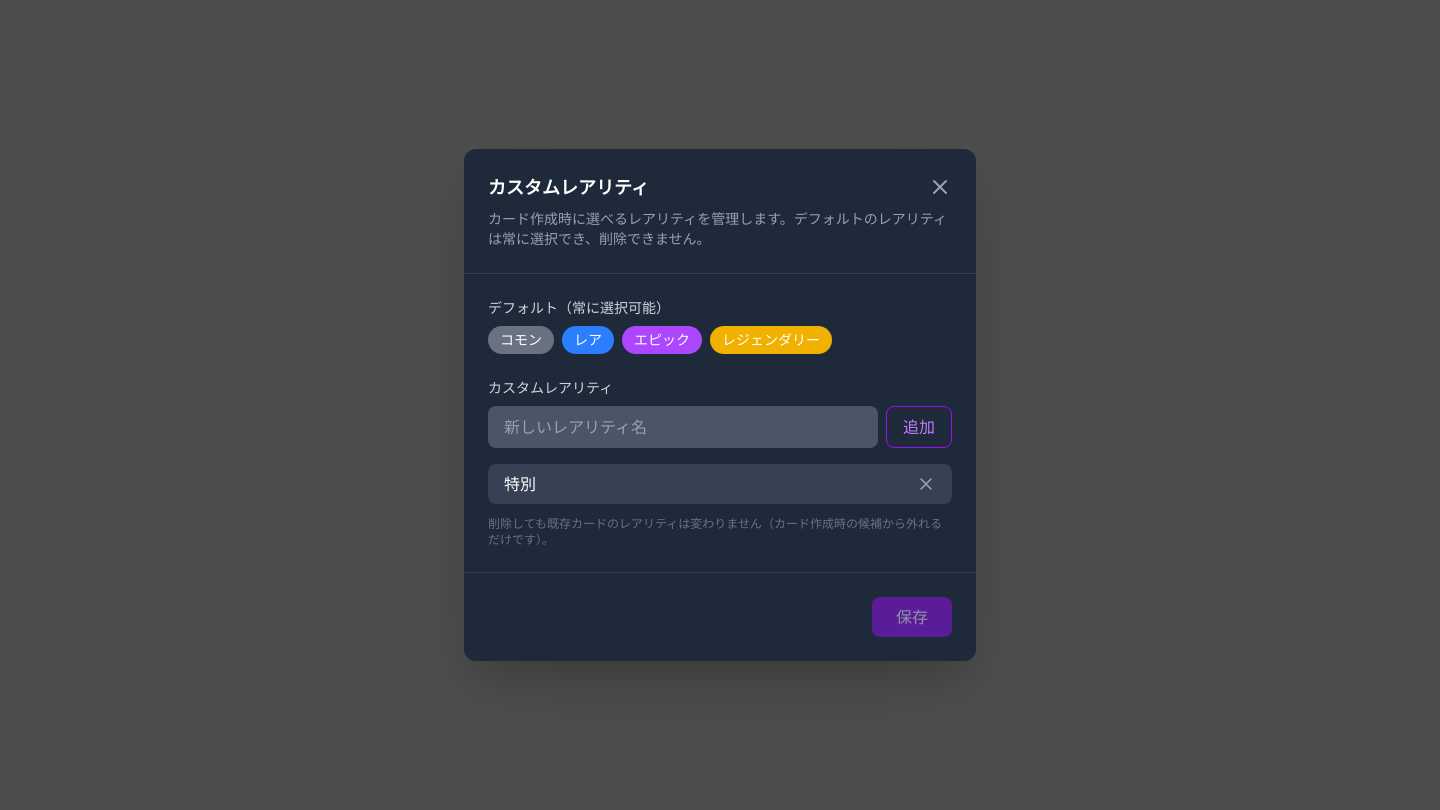
CustomRarityModal maintenance integration › mode=off で変更ありのときは保存ボタンが操作可能（既存挙動を壊さない）
Click the button named "Remove 特別" at (926, 484), box [916,474,936,494]
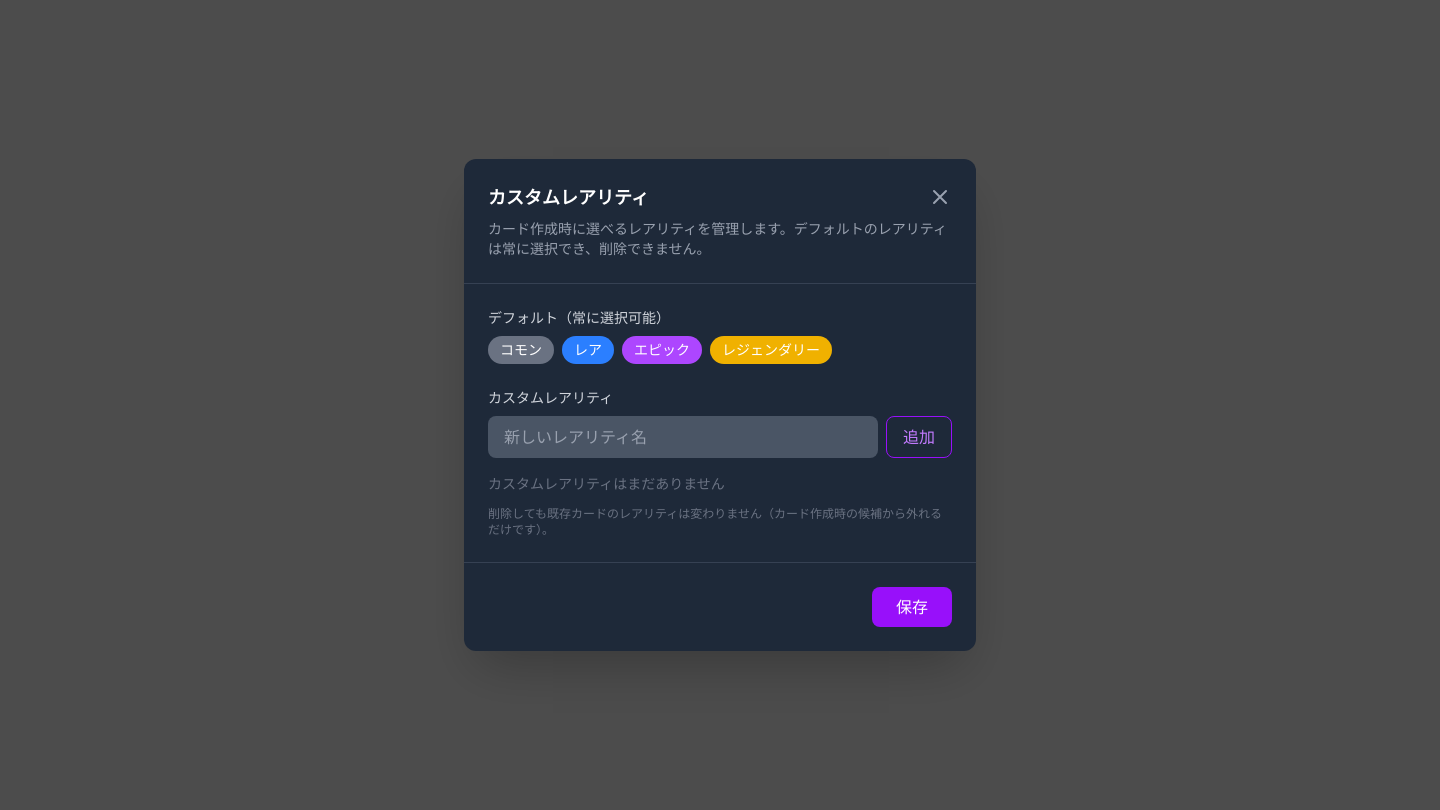
Check: the button "保存" is enabled, box [872,587,952,627]
